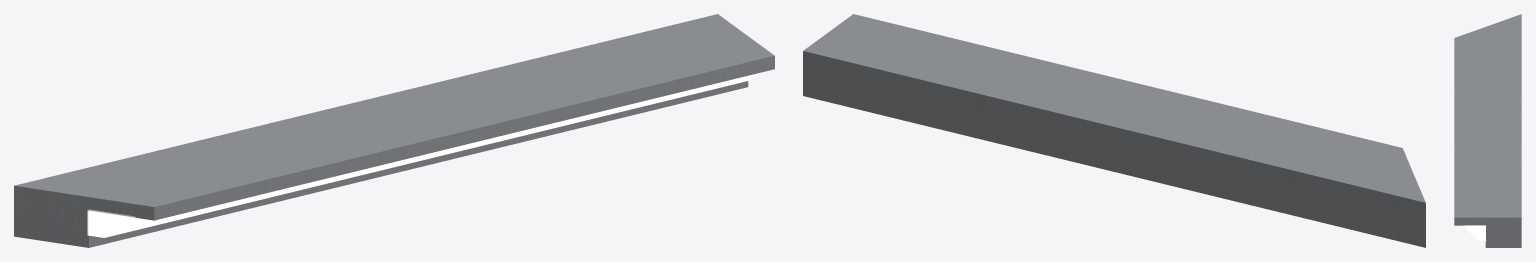
The model's file is MMM_Cafe_Corner_Light.fbx.
The picture shows the model from 3 angles, left to right: view 1: azimuth 30°, elevation 25°; view 2: azimuth 150°, elevation 25°; view 3: azimuth 270°, elevation 25°; orthographic projection. The views are drawn at different scales.
Visible parts, largest first — view 1: Corner_Light; view 2: Corner_Light; view 3: Corner_Light.
Part boxes in pixels (left/top/right/bottom): Corner_Light: left=14, top=14, right=774, bottom=247; Corner_Light: left=803, top=14, right=1425, bottom=247; Corner_Light: left=1454, top=14, right=1521, bottom=247.
Size of the model in its own units: 361 by 24.97 by 50.64.
Materials: 1 (1 with a texture image).
